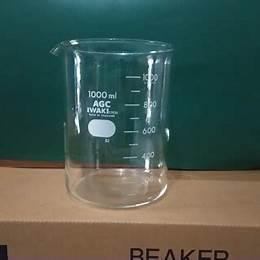Beaker: (47, 26, 177, 210)
